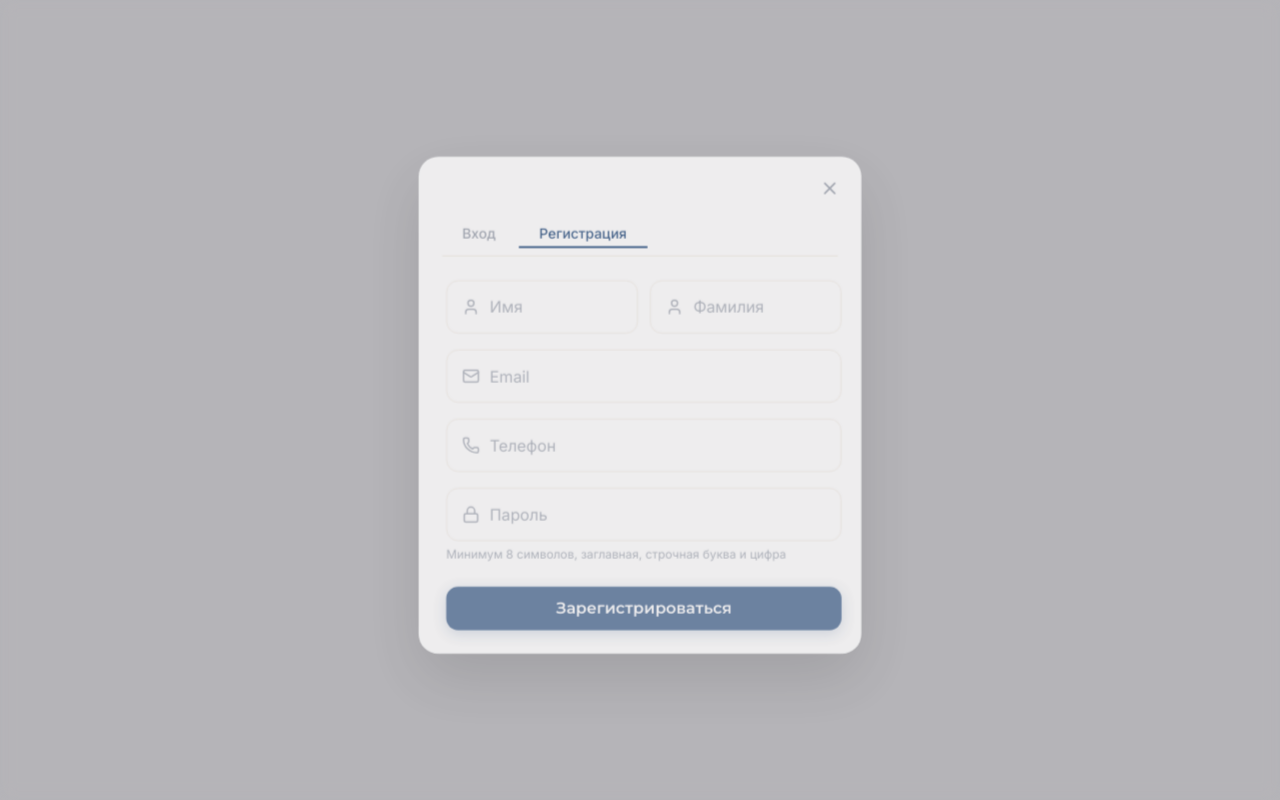
AuthModal unavailable auth service › shows a registration error under the form on 401, keeps the fields and clears the password
Type "Анна" into the field labelled "Имя" at {"x": 542, "y": 306}, box [446,280,638,333]
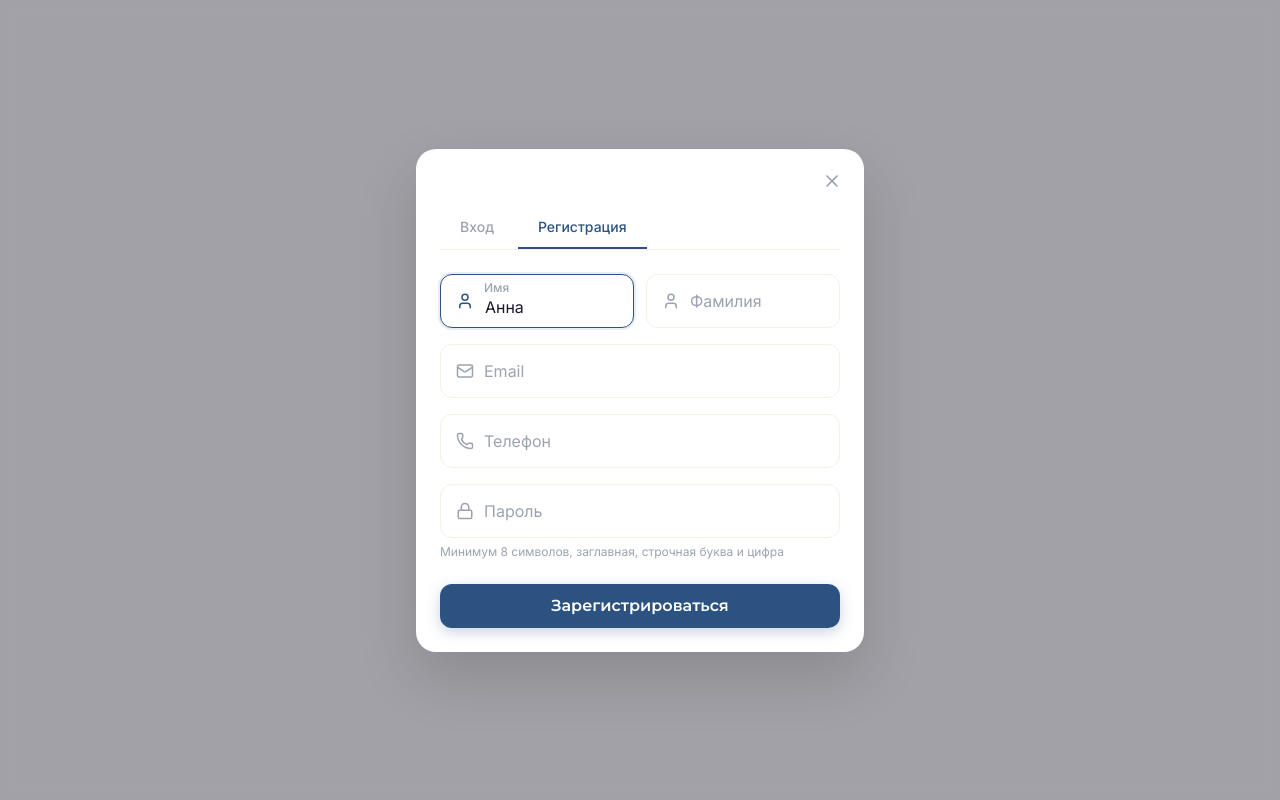
Type "Смирнова" into the field labelled "Фамилия" at {"x": 743, "y": 300}, box [646,274,840,328]
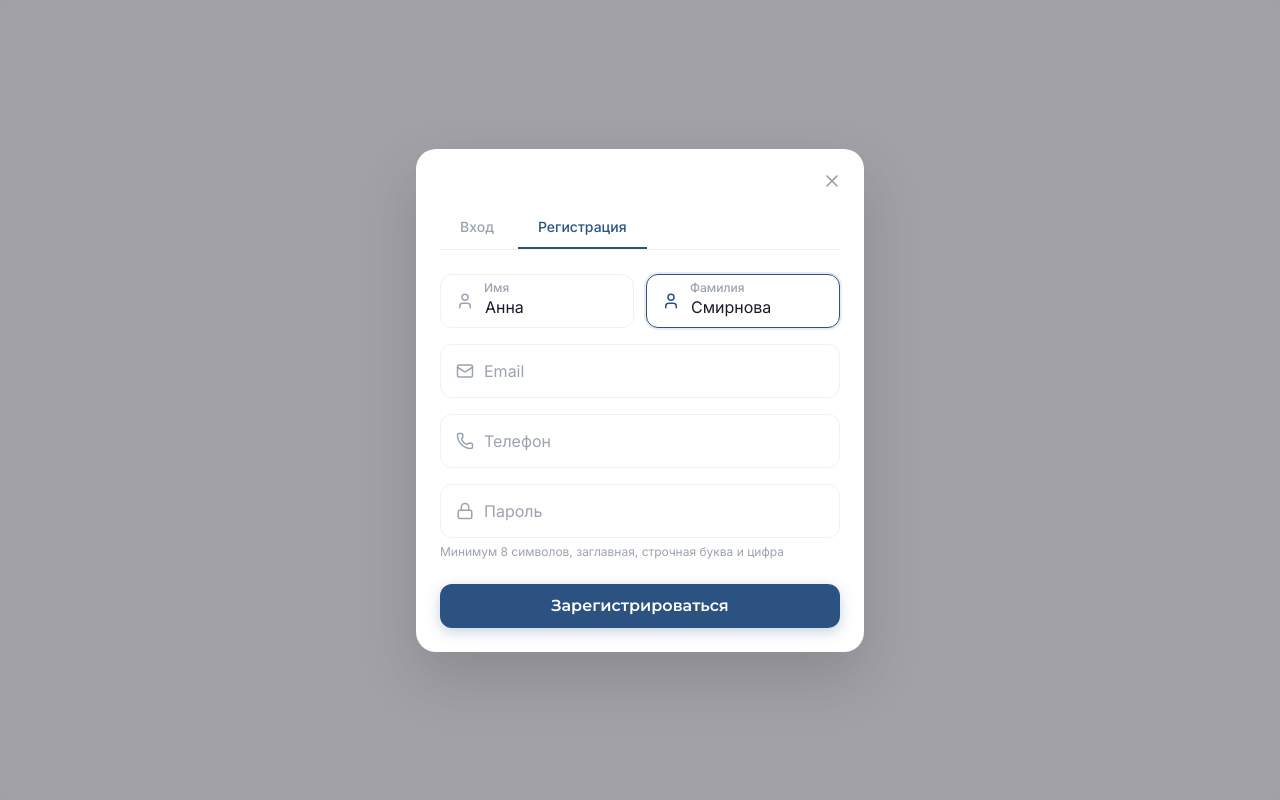
Type "anna@example.com" into the field labelled "Email" at {"x": 640, "y": 370}, box [440,344,840,398]
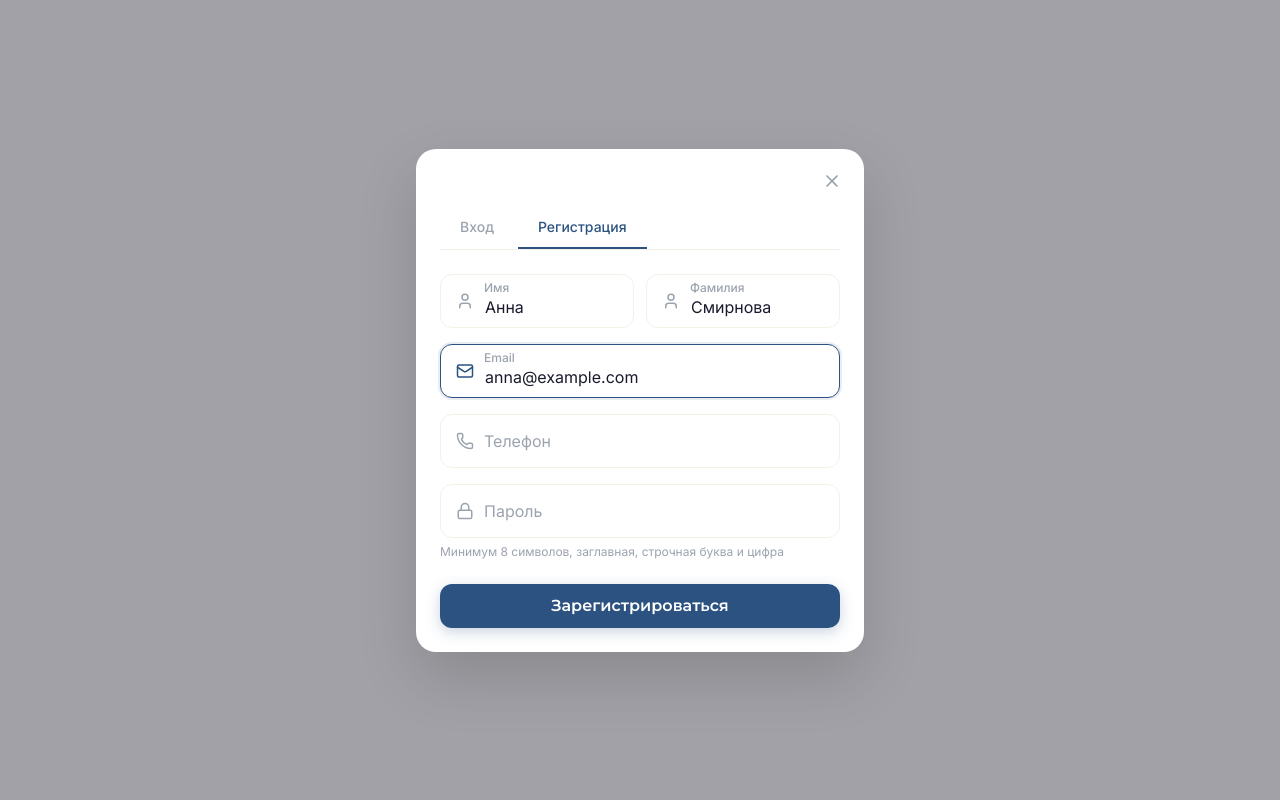
Type "+79990001122" into the field labelled "Телефон" at {"x": 640, "y": 440}, box [440,414,840,468]
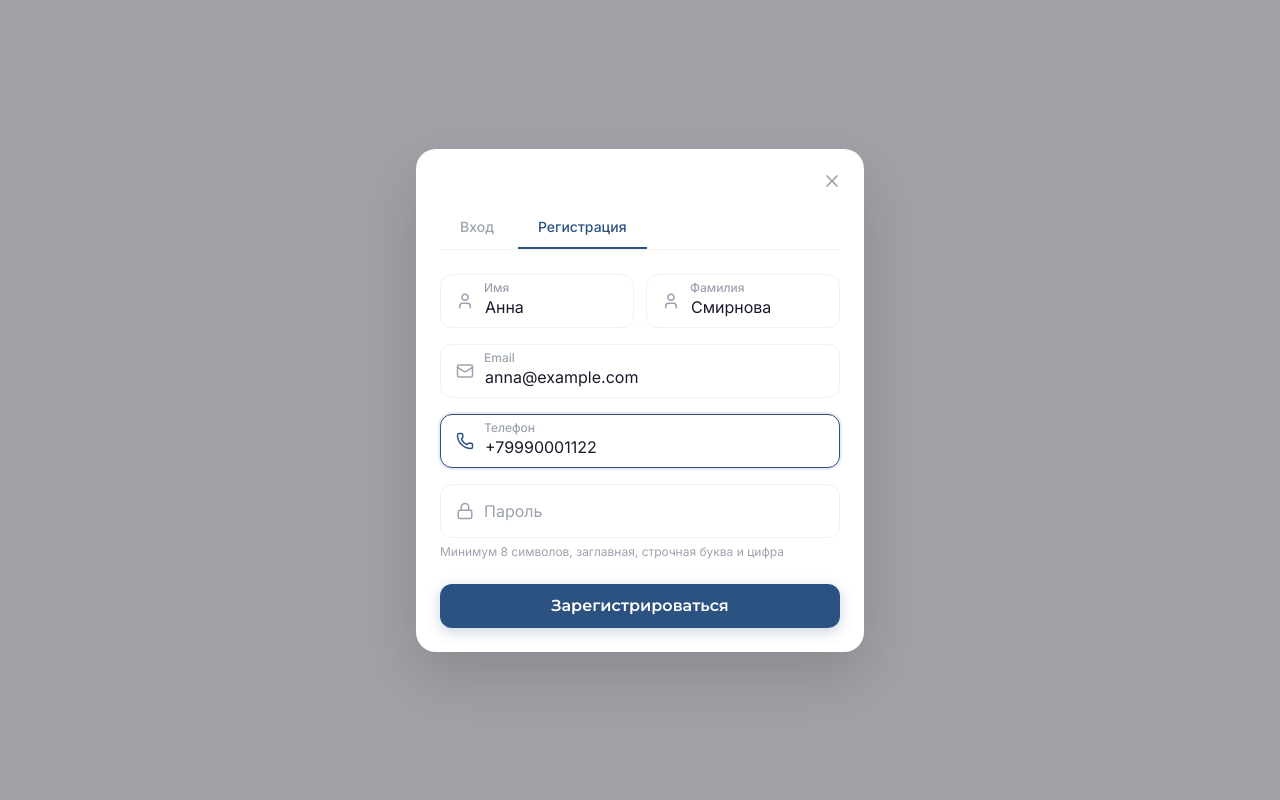
Type "Password1" into the password field labelled "Пароль" at {"x": 640, "y": 510}, box [440,484,840,538]
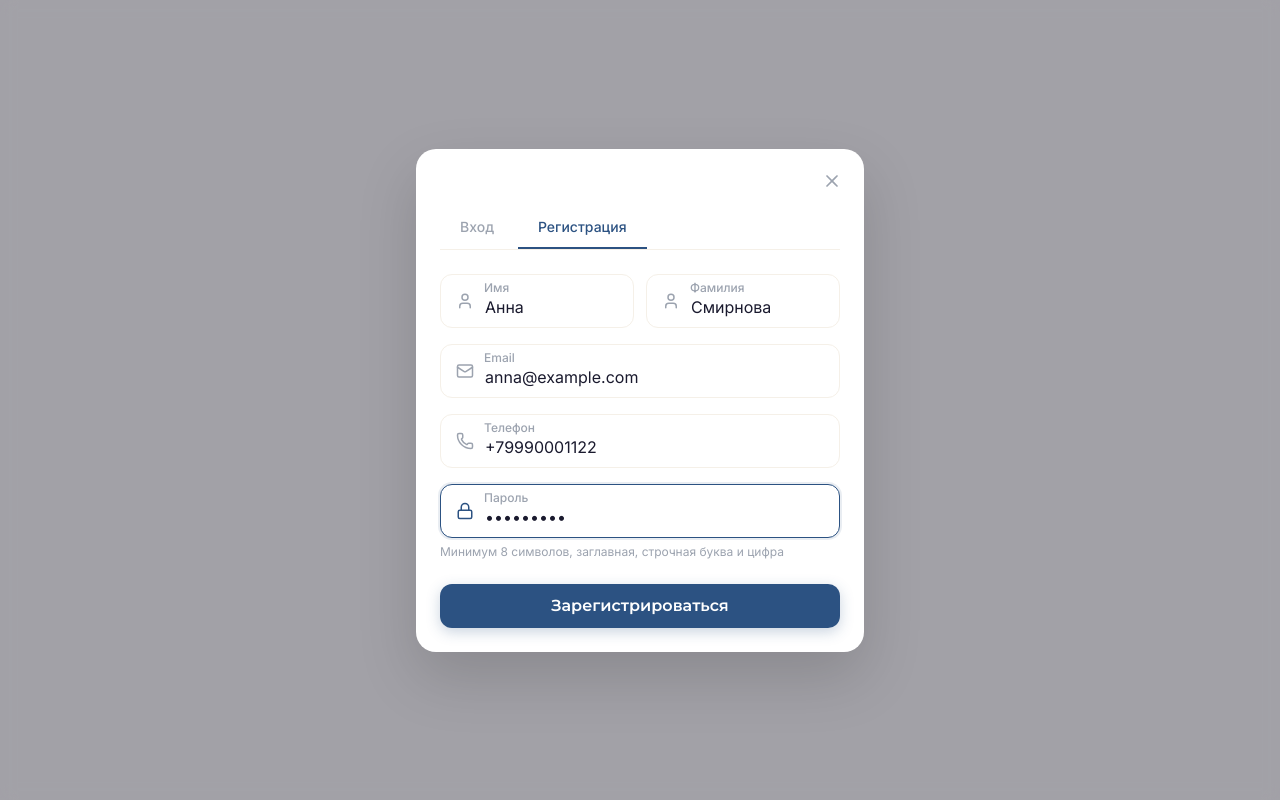
Click the button "Зарегистрироваться" at {"x": 640, "y": 606}, box [440,584,840,628]
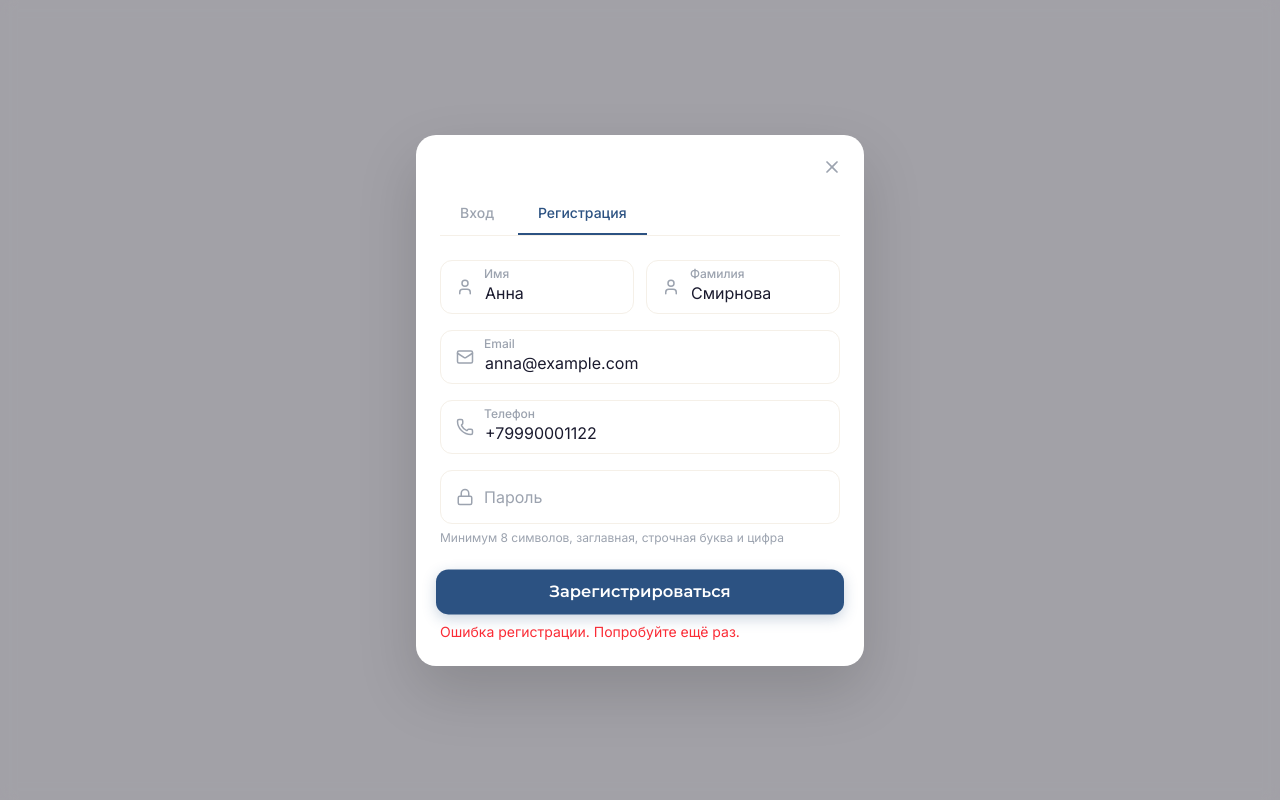
Expected: the message reads "Ошибка регистрации. Попробуйте ещё раз.", [440,622,740,640]
Expected: the password field labelled "Пароль" is empty, [440,470,840,524]
